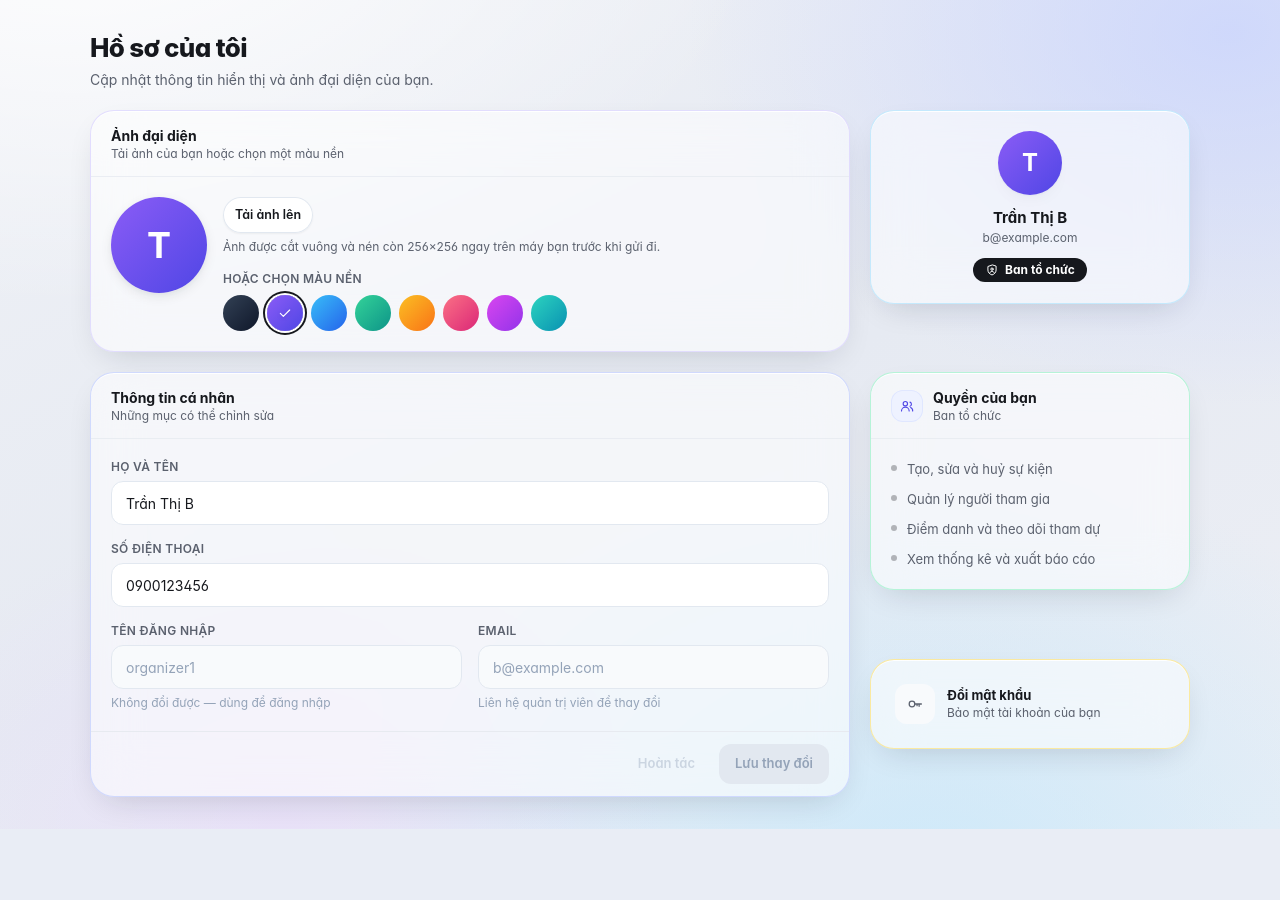
Test: ProfilePage › lưu hồ sơ và cập nhật ngay vào store để sidebar đổi theo
This screenshot has width=1280, height=900.
Replace the text in the field showing "Trần Thị B" with "Tên Mới": (470, 503) [111,481,829,525]
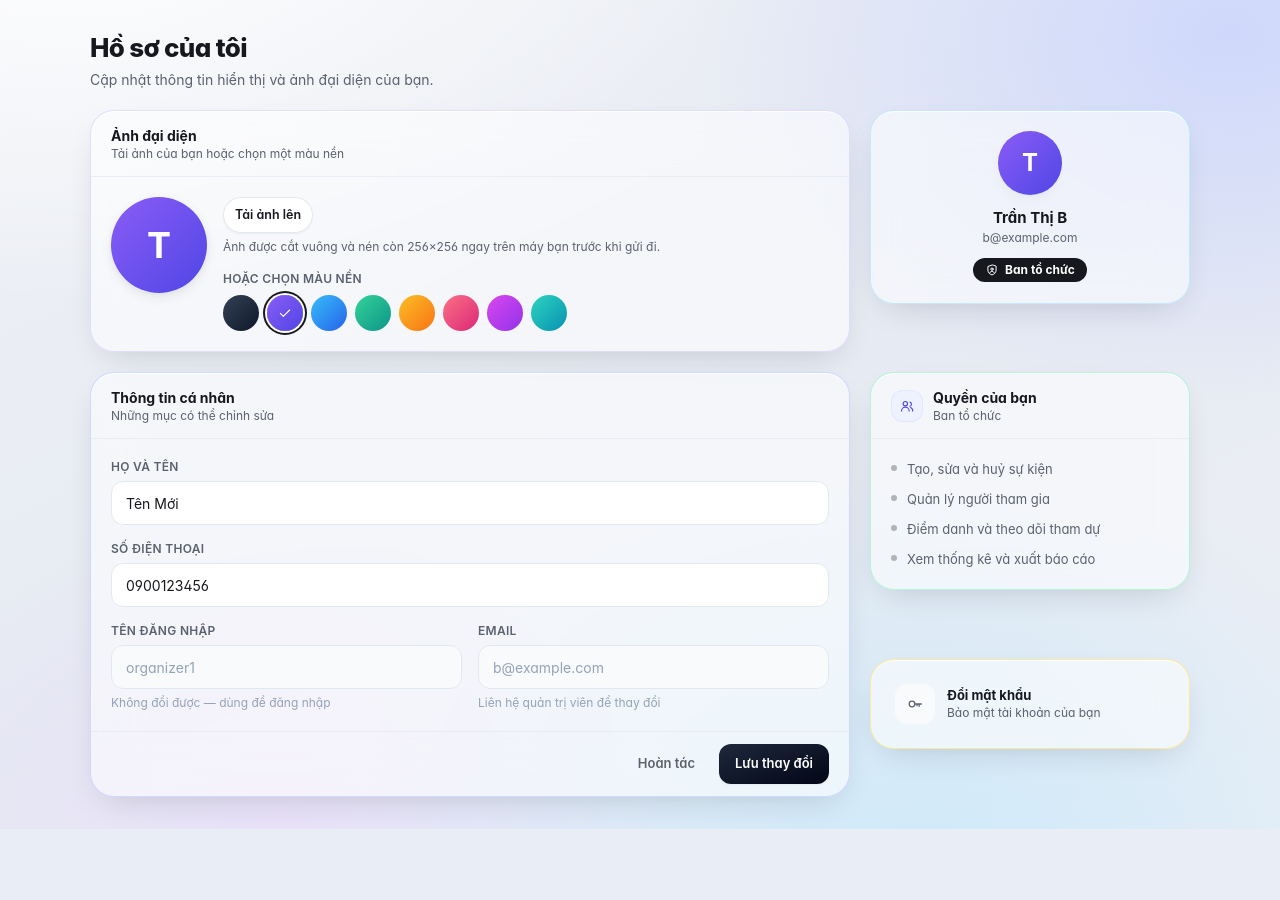
Click the button "Lưu thay đổi": (774, 764) [719,744,829,784]
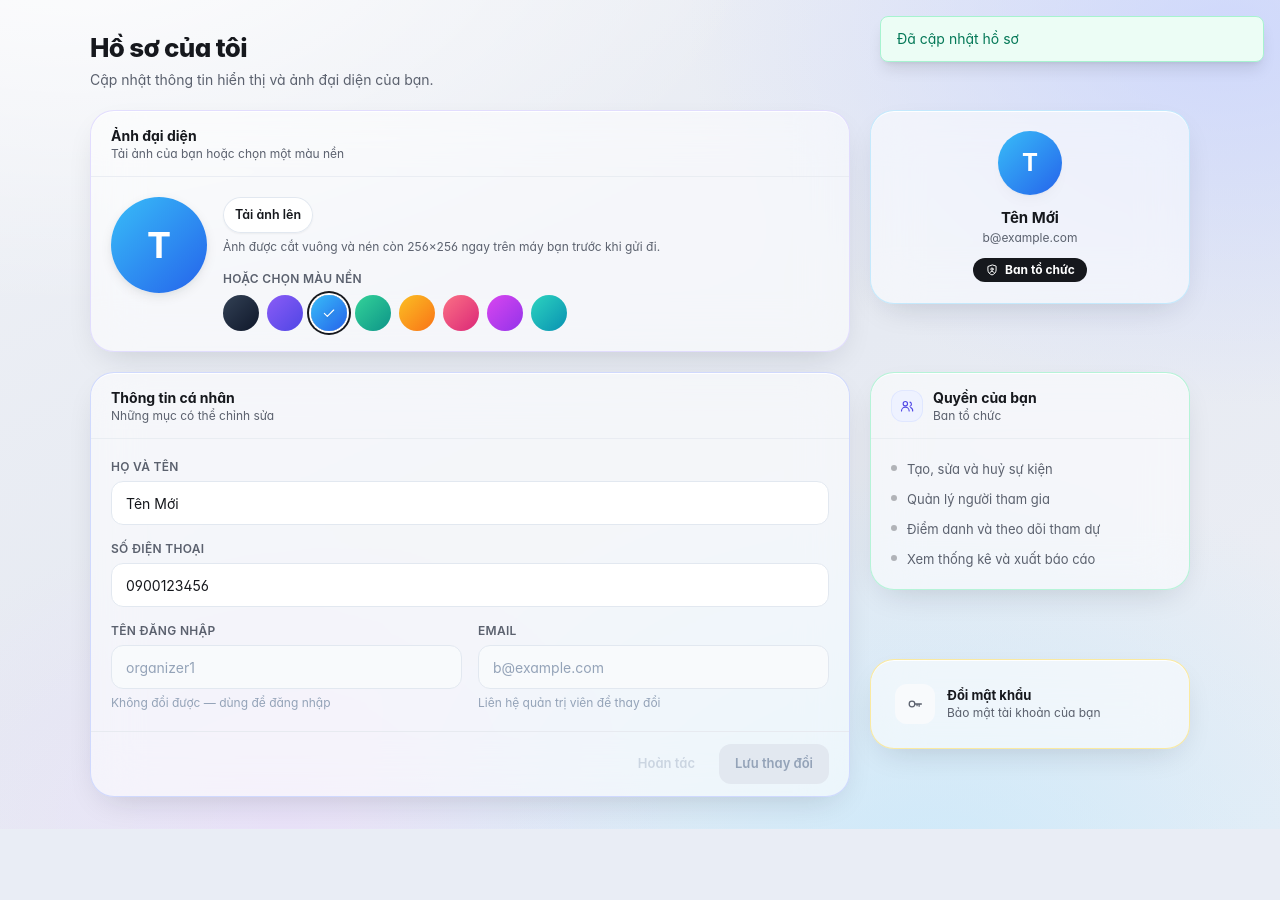
Result: the text "Tên Mới" is shown at [1001,208,1059,227]
